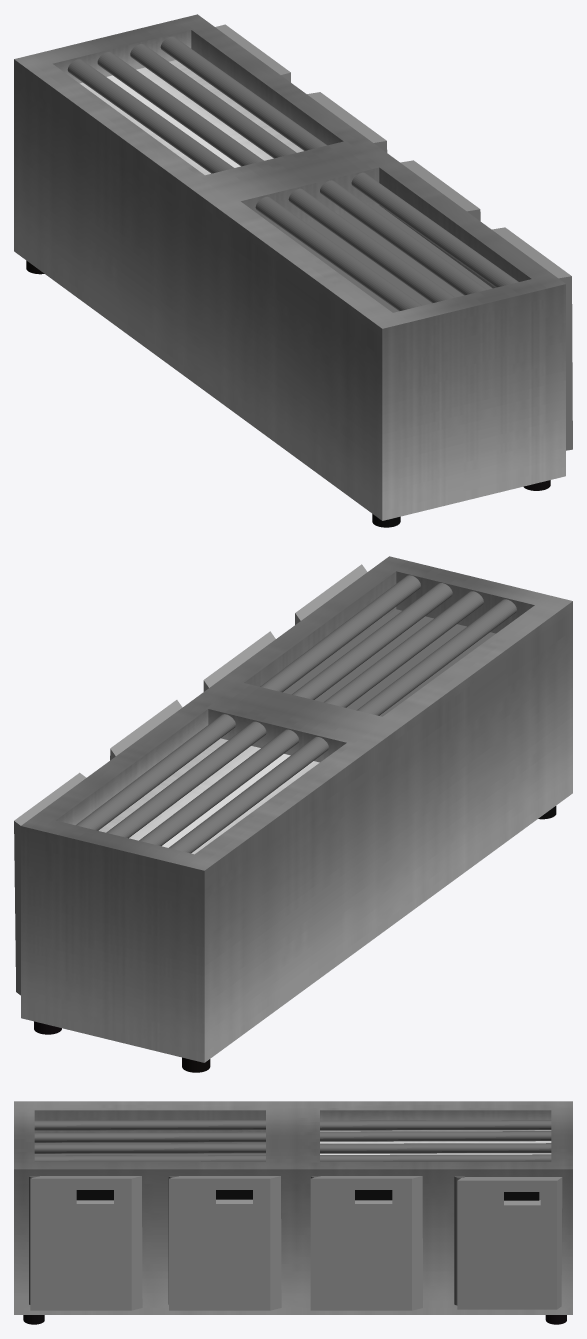
The model's file is werkbankspleten_original.glb.
3 renders of one model, top to bottom at view 1: azimuth 30°, elevation 25°; view 2: azimuth 150°, elevation 25°; view 3: azimuth 270°, elevation 25°, orthographic. The views are drawn at different scales.
Visible parts, largest first — view 1: Cube.017_Cube.029, Cube.018_Cube.030, Cylinder.018_Cylinder.026, Cylinder.017_Cylinder.025, Cylinder.022_Cylinder.031, Cylinder.016_Cylinder.024, Cylinder.021_Cylinder.030, Cylinder.023_Cylinder.032, Cylinder.019_Cylinder.027, Cylinder.020_Cylinder.029, Cube.016_Cube.028, Cube.014_Cube.026 (+2 smaller); view 2: Cube.017_Cube.029, Cube.018_Cube.030, Cylinder.017_Cylinder.025, Cylinder.018_Cylinder.026, Cylinder.022_Cylinder.031, Cylinder.023_Cylinder.032, Cylinder.016_Cylinder.024, Cylinder.021_Cylinder.030, Cylinder.019_Cylinder.027, Cylinder.020_Cylinder.029, Cube.013_Cube.025, Cube.014_Cube.026 (+2 smaller); view 3: Cube.017_Cube.029, Cube.012_Cube.024, Cube.014_Cube.026, Cube.016_Cube.028, Cube.013_Cube.025, Cylinder.016_Cylinder.024, Cylinder.017_Cylinder.025, Cylinder.022_Cylinder.031, Cylinder.021_Cylinder.030, Cylinder.020_Cylinder.029, Cylinder.019_Cylinder.027, Cylinder.023_Cylinder.032 (+7 smaller).
Boxes of the visible parts, <box> form: Cube.017_Cube.029: <box>14,14,565,520</box>; Cube.018_Cube.030: <box>279,205,492,312</box>; Cylinder.018_Cylinder.026: <box>351,172,518,287</box>; Cylinder.017_Cylinder.025: <box>320,180,486,295</box>; Cylinder.022_Cylinder.031: <box>130,44,296,158</box>; Cylinder.016_Cylinder.024: <box>288,188,454,303</box>; Cylinder.021_Cylinder.030: <box>97,52,263,166</box>; Cylinder.023_Cylinder.032: <box>160,36,327,150</box>; Cylinder.019_Cylinder.027: <box>255,196,421,311</box>; Cylinder.020_Cylinder.029: <box>67,59,233,173</box>; Cube.016_Cube.028: <box>492,227,572,450</box>; Cube.014_Cube.026: <box>400,160,480,220</box>; Cube.017_Cube.029: <box>21,556,572,1062</box>; Cube.018_Cube.030: <box>283,609,495,716</box>; Cylinder.017_Cylinder.025: <box>292,583,452,699</box>; Cylinder.018_Cylinder.026: <box>260,575,420,692</box>; Cylinder.022_Cylinder.031: <box>106,721,266,838</box>; Cylinder.023_Cylinder.032: <box>76,714,235,830</box>; Cylinder.016_Cylinder.024: <box>324,591,483,707</box>; Cylinder.021_Cylinder.030: <box>139,729,299,846</box>; Cylinder.019_Cylinder.027: <box>356,599,516,715</box>; Cylinder.020_Cylinder.029: <box>169,737,328,853</box>; Cube.013_Cube.025: <box>14,772,86,995</box>; Cube.014_Cube.026: <box>203,631,275,691</box>; Cube.017_Cube.029: <box>14,1101,572,1314</box>; Cube.012_Cube.024: <box>310,1176,422,1310</box>; Cube.014_Cube.026: <box>169,1176,281,1310</box>; Cube.016_Cube.028: <box>30,1176,142,1310</box>; Cube.013_Cube.025: <box>457,1177,562,1309</box>; Cylinder.016_Cylinder.024: <box>34,1132,265,1142</box>; Cylinder.017_Cylinder.025: <box>34,1143,265,1153</box>; Cylinder.022_Cylinder.031: <box>320,1143,551,1153</box>; Cylinder.021_Cylinder.030: <box>320,1131,551,1141</box>; Cylinder.020_Cylinder.029: <box>320,1120,551,1130</box>; Cylinder.019_Cylinder.027: <box>34,1120,265,1130</box>; Cylinder.023_Cylinder.032: <box>320,1154,551,1161</box>.
Size of the model in its own units: 3.48 by 3.42 by 11.04.
18 materials, 1 textured.
